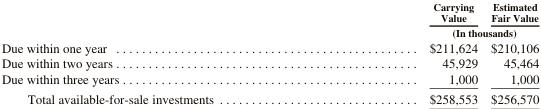table: (0, 0, 538, 106)
table column: (0, 0, 320, 106), (320, 0, 483, 106), (483, 0, 538, 106)
table column header: (0, 0, 538, 39)
table row: (0, 0, 538, 24), (0, 70, 538, 88), (0, 88, 538, 106), (0, 54, 538, 70), (0, 24, 538, 39), (0, 39, 538, 54)
table spanning cell: (320, 24, 538, 39)
